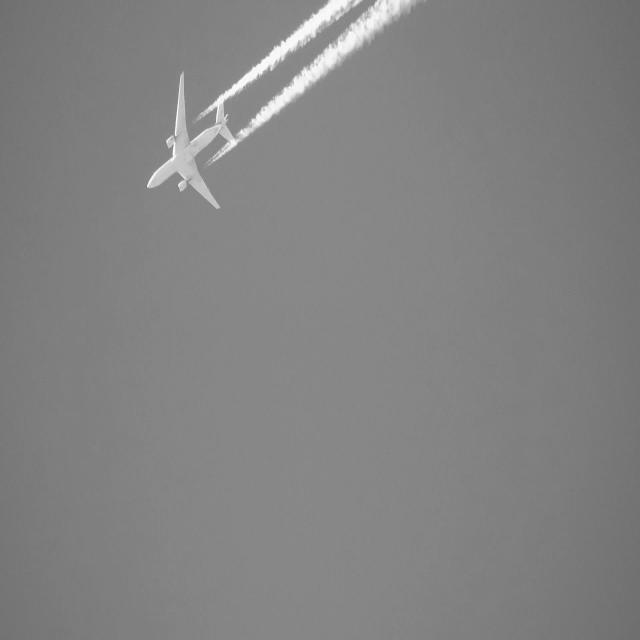aeroplane: (145, 73, 238, 222)
